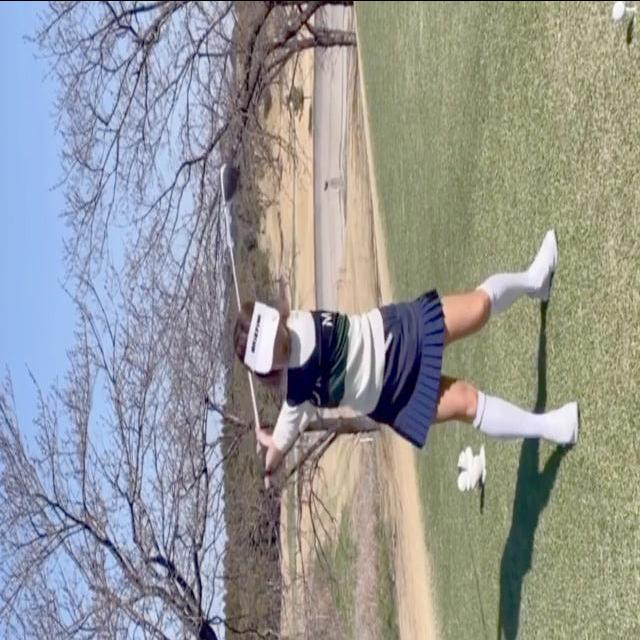ClubHandle: (219, 162, 271, 491)
ClubHead: (219, 162, 243, 202)
GolfBall: (612, 0, 624, 22)
